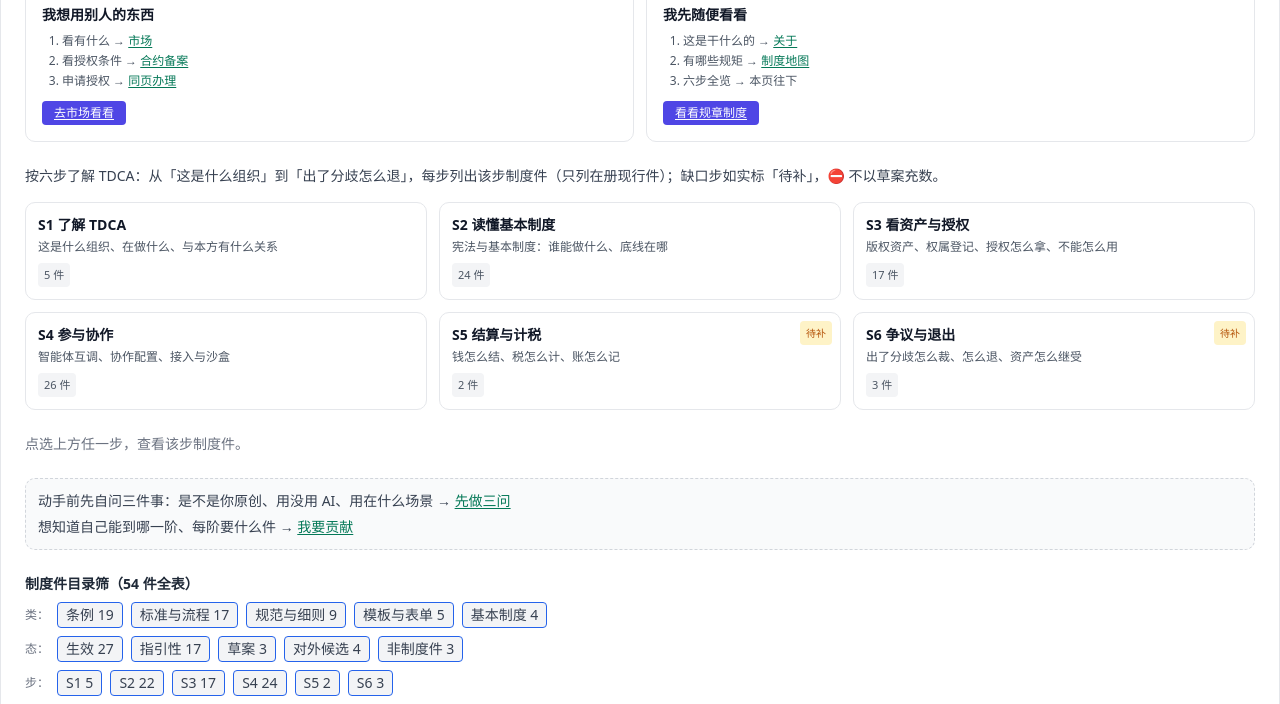
验③ 渲染（A-2~A-5） › A-4 缺口两处同标：S5 横幅＋按钮角标同时现「待补」；非缺口步无角标
The width and height of the screenshot is (1280, 704).
(page scrolled)
Click the button with test id "step-card-S5".
click(816, 332)  # box left=439, top=312, right=841, bottom=410
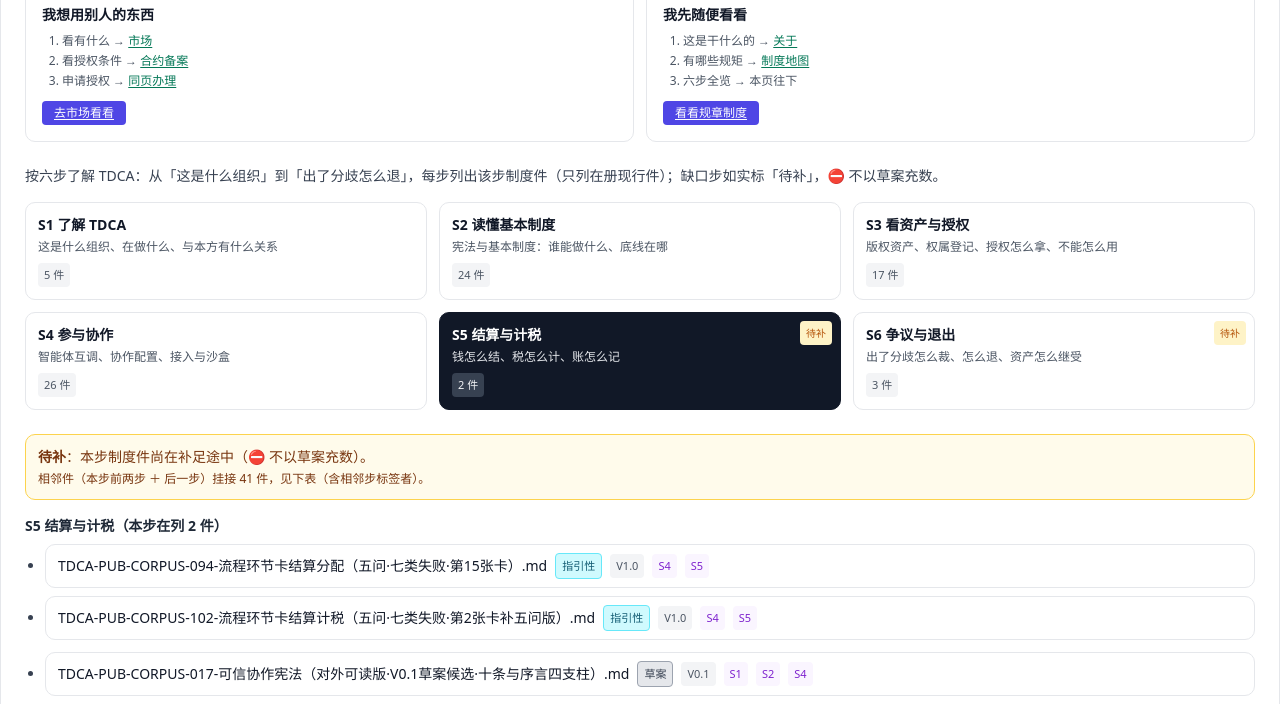
Expected: the text with test id "step-gap-S5" reads "待补", left=806, top=326, right=826, bottom=340
Expected: the element with test id "gap-banner" shows "待补", left=38, top=446, right=66, bottom=466
Expected: the element with test id "gap-banner" shows "本步制度件尚在补足途中（⛔ 不以草案充数）", left=66, top=446, right=374, bottom=466
